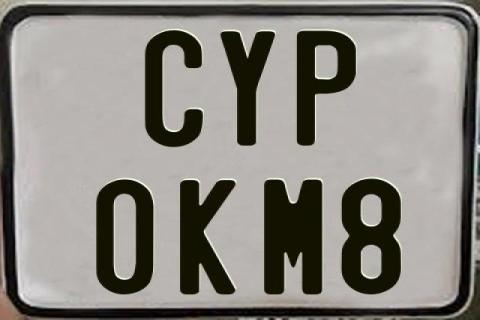0: (338, 176, 402, 294), (96, 177, 154, 293)
C: (145, 30, 204, 148)
K: (177, 180, 233, 299)
M: (263, 177, 327, 297)
P: (294, 30, 354, 146)
Y: (220, 31, 276, 149)
